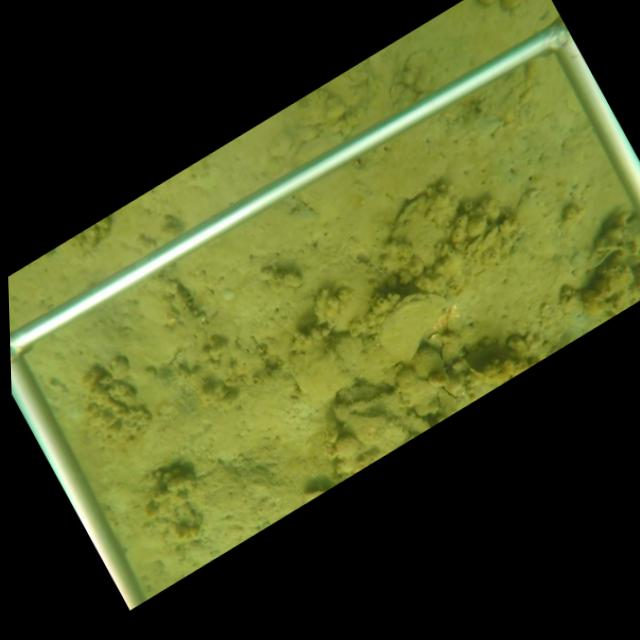Oyster-Closed: (373, 289, 450, 367)
Oyster-Indeterminate: (385, 185, 461, 286), (342, 411, 388, 444)
